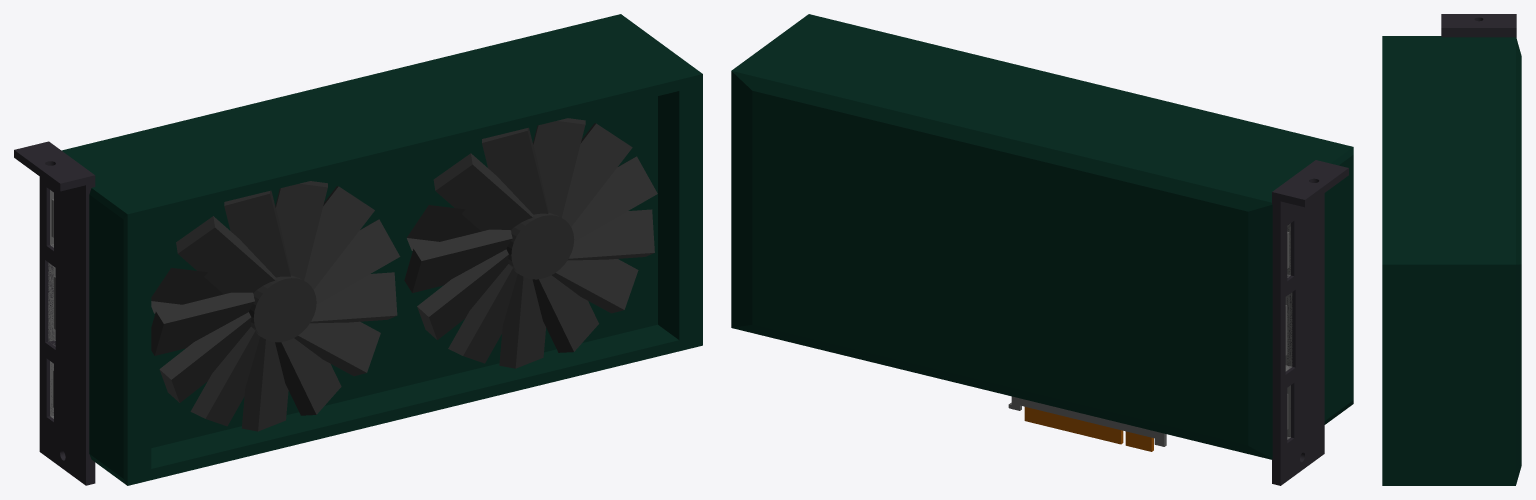
Rendered from Videocard.glb.
The picture shows the model from 3 angles, left to right: view 1: azimuth 30°, elevation 25°; view 2: azimuth 150°, elevation 25°; view 3: azimuth 270°, elevation 25°; orthographic projection. The views are drawn at different scales.
Visible parts, largest first — view 1: Videocard; view 2: Videocard; view 3: Videocard.
Boxes of the visible parts, x1,y1,x2,y2 form: Videocard: (14,14,702,485); Videocard: (731,14,1353,485); Videocard: (1382,14,1521,485).
Size of the model in its own units: 9.47 by 4.6 by 2.31.
